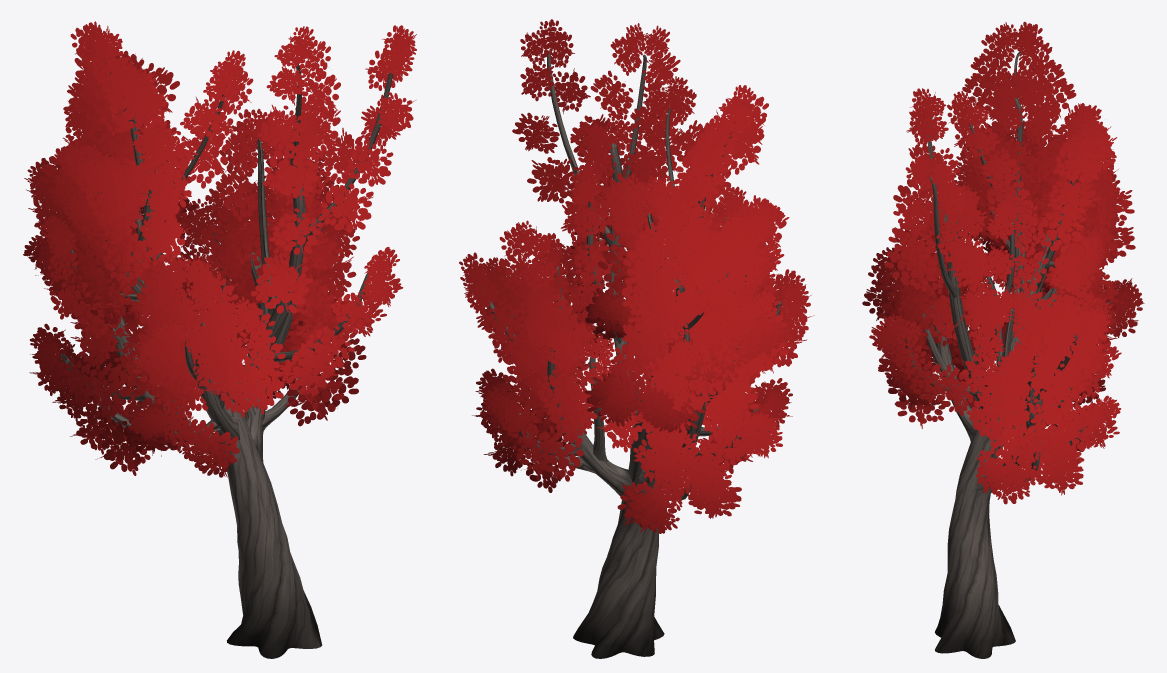
Rendered from TwistedTree_2.glb.
3 views of the same model, side by side, from view 1: azimuth 30°, elevation 25°; view 2: azimuth 150°, elevation 25°; view 3: azimuth 270°, elevation 25° (orthographic). The views are drawn at different scales.
Parts seen in each view (by area): view 1: TwistedTree_2; view 2: TwistedTree_2; view 3: TwistedTree_2.
Part boxes in pixels (x1=…): TwistedTree_2: x1=23, y1=21, x2=416, y2=658; TwistedTree_2: x1=459, y1=19, x2=814, y2=658; TwistedTree_2: x1=862, y1=21, x2=1144, y2=658.
Bounding box in the file's own units: 10.56 × 18.95 × 9.2.
2 materials, 2 textured.
